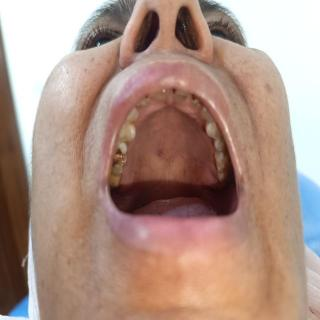cavities: (168, 78, 182, 101), (108, 150, 128, 166), (191, 88, 198, 108), (143, 89, 151, 105)
